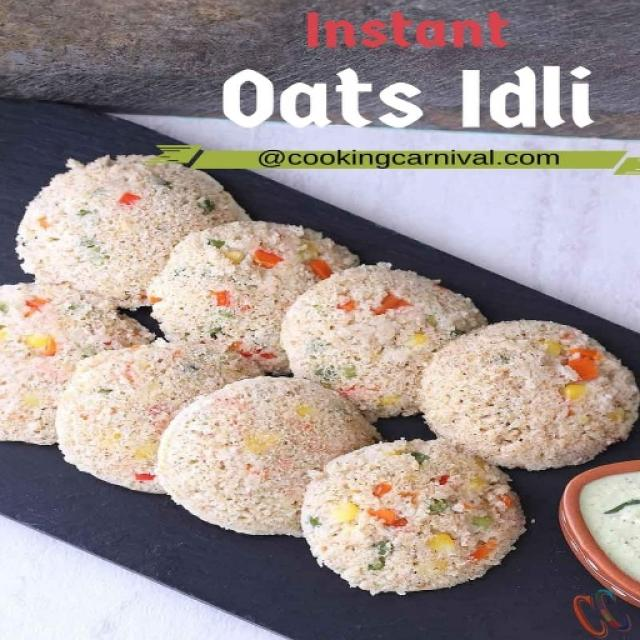IDLI: (0, 155, 639, 593)
WHITE CHUTNEY: (566, 468, 640, 606)
